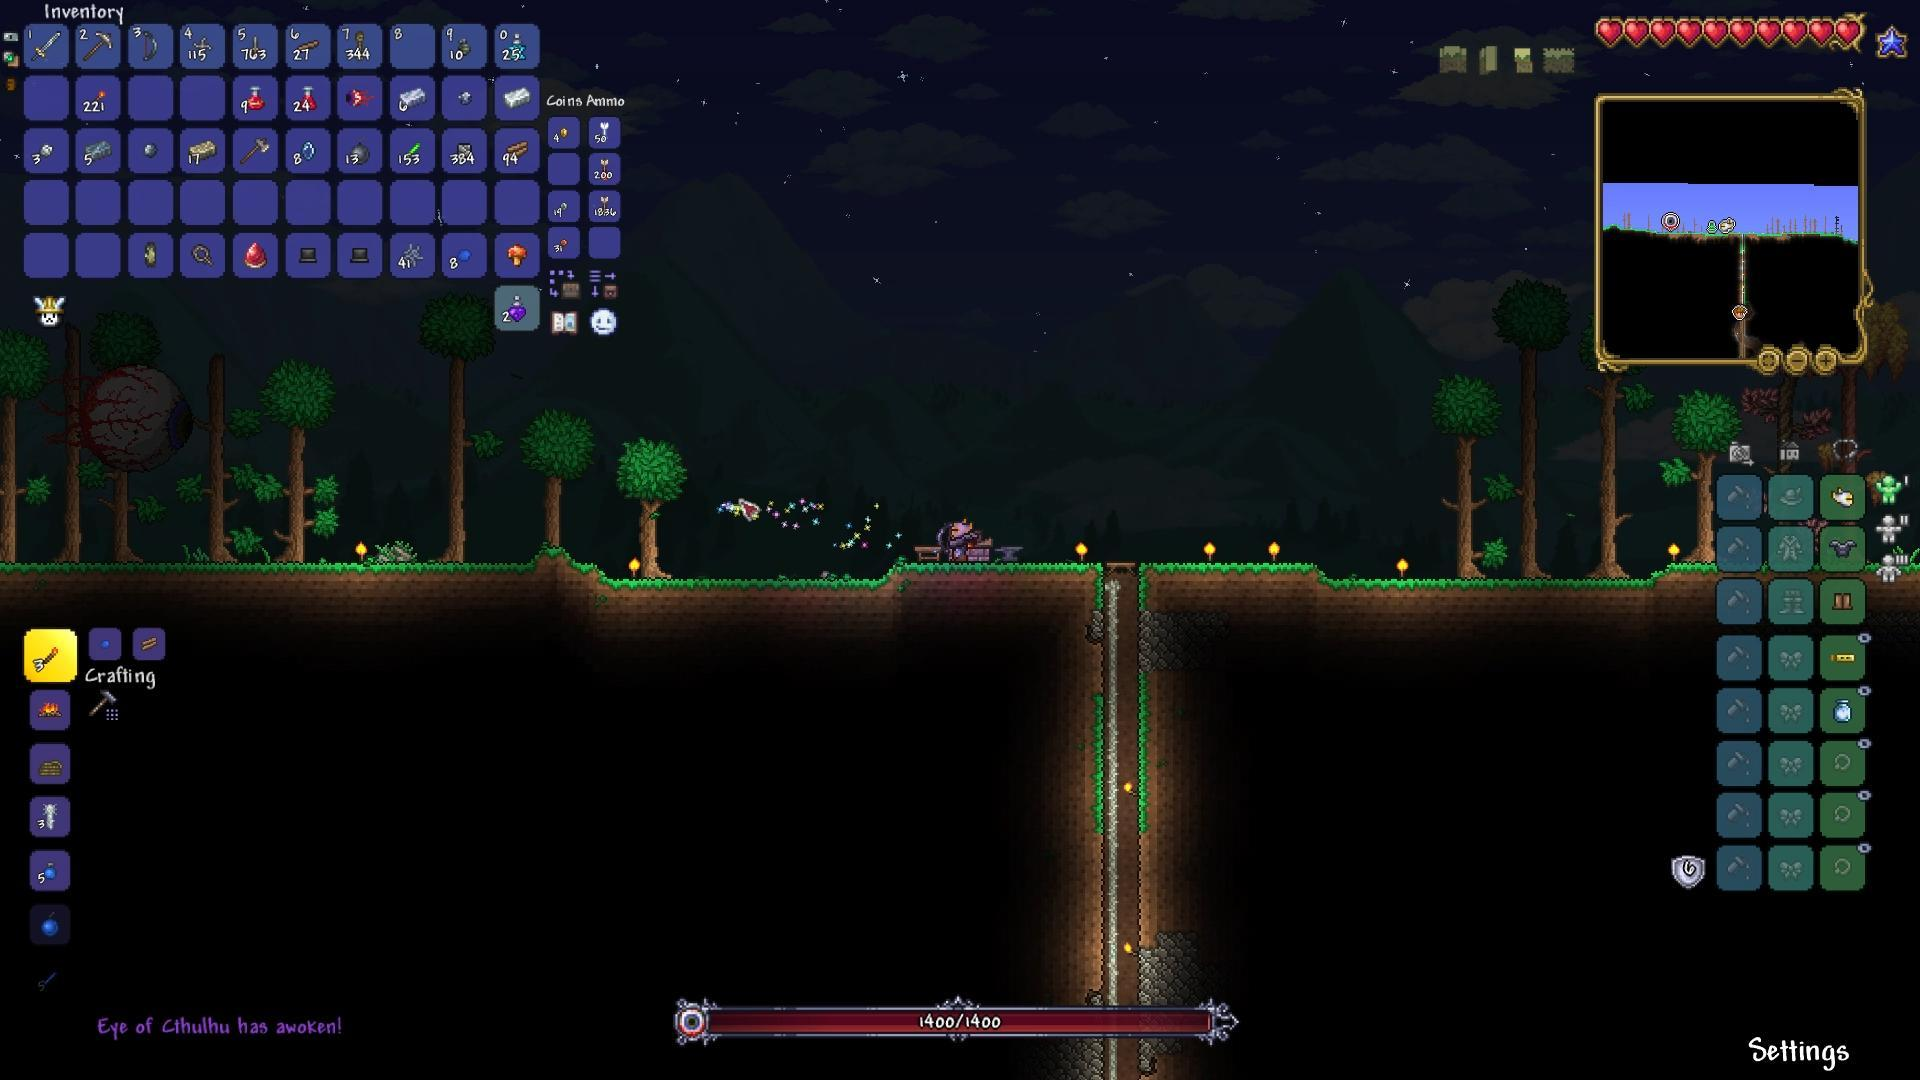eyeC: (47, 367, 189, 483)
